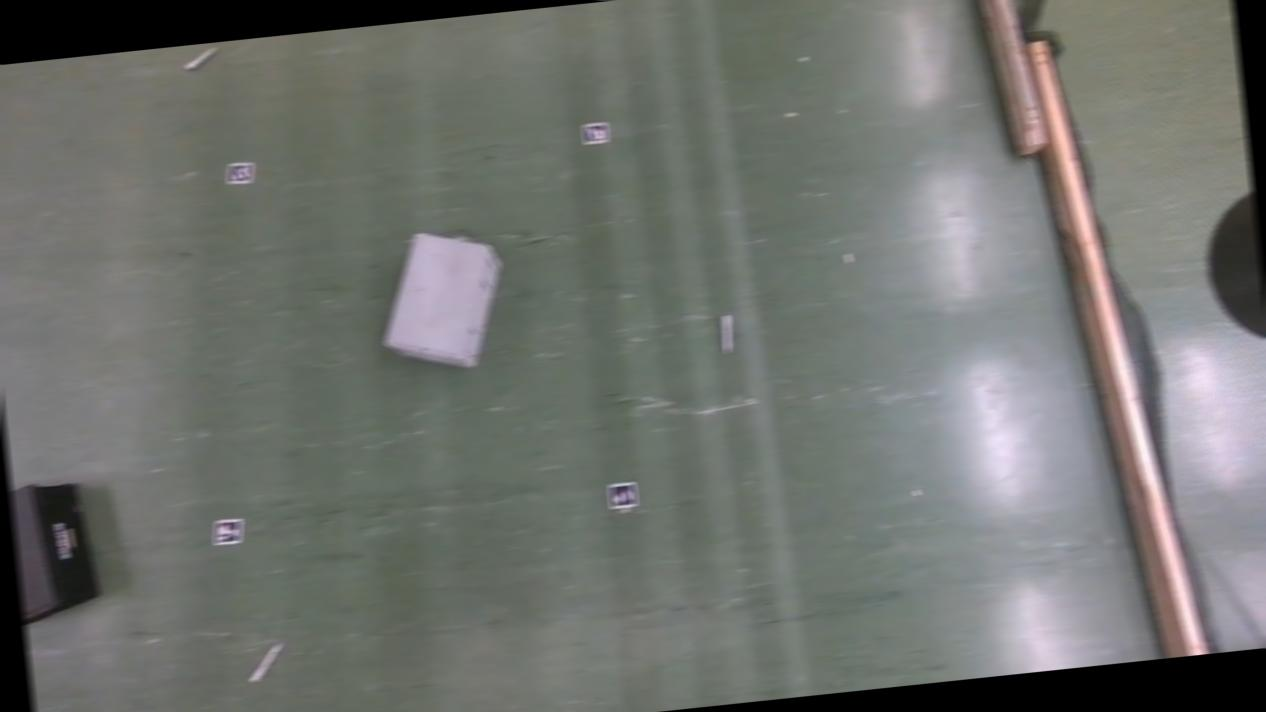probes: (250, 643, 285, 682), (186, 48, 216, 71), (720, 315, 734, 354)
rako: (372, 226, 512, 379), (10, 478, 100, 626)
